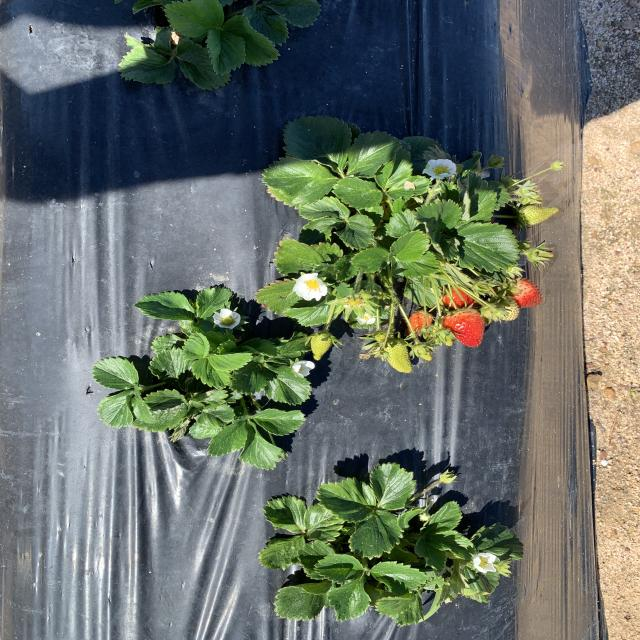unripe: (444, 308, 486, 348), (501, 276, 547, 308), (438, 286, 487, 308), (408, 308, 435, 334)
